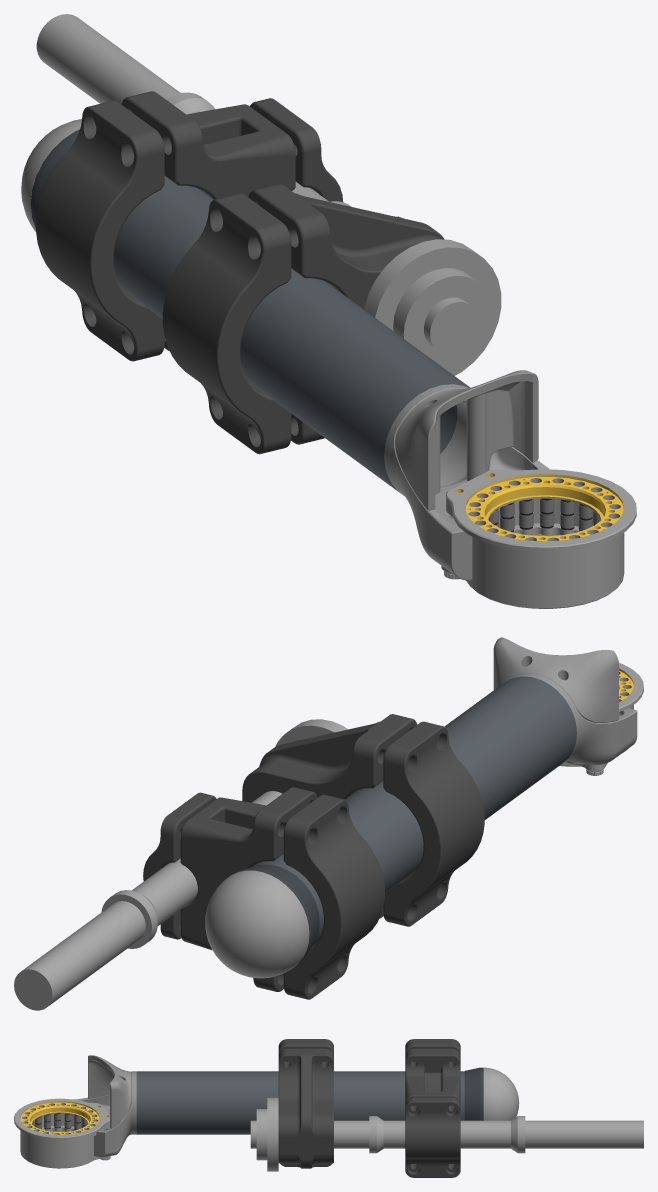
File: LEFT_ELBOW_PITCH_LINK_413mm_LENGTH_NO_WEIGHT.obj
3 renders of one model, top to bottom at view 1: azimuth 30°, elevation 25°; view 2: azimuth 150°, elevation 25°; view 3: azimuth 270°, elevation 25°, orthographic. The views are drawn at different scales.
Visible parts, largest first — view 1: mesh1077, mesh232, mesh257, mesh1197, mesh275, mesh227, mesh142, mesh3, mesh5, mesh1169, mesh1443, mesh505 (+26 smaller); view 2: mesh1077, mesh232, mesh523, mesh247, mesh275, mesh150, mesh1443, mesh227, mesh516, mesh279, mesh767, mesh1383 (+18 smaller); view 3: mesh1077, mesh275, mesh279, mesh1197, mesh292, mesh523, mesh283, mesh473, mesh2, mesh1169, mesh1050, mesh288 (+34 smaller).
Part boxes in pixels (left/top/right/bottom): mesh1077: left=113, top=176, right=470, bottom=491; mesh232: left=36, top=152, right=246, bottom=409; mesh257: left=92, top=152, right=289, bottom=442; mesh1197: left=467, top=532, right=624, bottom=608; mesh275: left=36, top=14, right=180, bottom=104; mesh227: left=67, top=117, right=262, bottom=283; mesh142: left=178, top=143, right=293, bottom=198; mesh3: left=375, top=247, right=501, bottom=375; mesh5: left=403, top=276, right=492, bottom=370; mesh1169: left=447, top=469, right=635, bottom=546; mesh1443: left=395, top=390, right=461, bottom=492; mesh505: left=305, top=235, right=379, bottom=433; mesh1077: left=253, top=676, right=576, bottom=946; mesh232: left=318, top=762, right=484, bottom=964; mesh523: left=205, top=870, right=309, bottom=978; mesh247: left=285, top=762, right=439, bottom=990; mesh275: left=22, top=901, right=145, bottom=1006; mesh150: left=182, top=828, right=272, bottom=983; mesh1443: left=539, top=650, right=618, bottom=721; mesh227: left=306, top=734, right=459, bottom=865; mesh516: left=243, top=755, right=372, bottom=802; mesh279: left=132, top=858, right=197, bottom=925; mesh767: left=565, top=721, right=618, bottom=765; mesh1383: left=493, top=640, right=552, bottom=689; mesh1077: left=136, top=1071, right=464, bottom=1134; mesh275: left=525, top=1120, right=643, bottom=1148; mesh279: left=383, top=1120, right=510, bottom=1148; mesh1197: left=20, top=1130, right=95, bottom=1168; mesh292: left=406, top=1125, right=459, bottom=1158; mesh523: left=483, top=1067, right=519, bottom=1120; mesh283: left=250, top=1120, right=369, bottom=1148; mesh473: left=279, top=1132, right=332, bottom=1158; mesh2: left=267, top=1097, right=278, bottom=1171; mesh1169: left=14, top=1098, right=109, bottom=1137; mesh1050: left=464, top=1068, right=478, bottom=1120; mesh288: left=406, top=1112, right=459, bottom=1125.
Size of the model in its own units: 0.1416 by 0.1114 by 0.5664.
